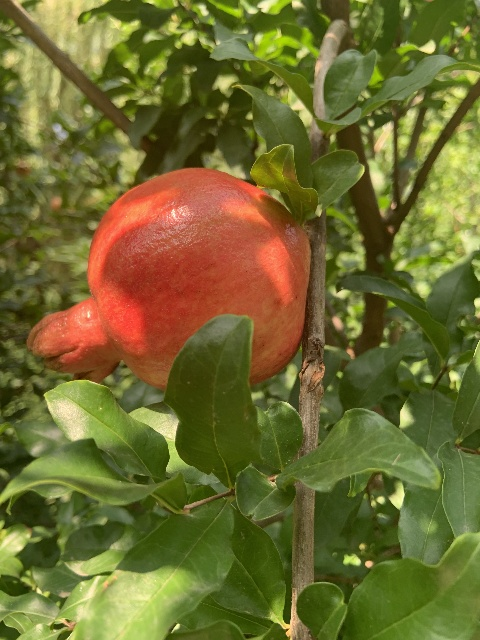ripe: (26, 167, 312, 391)
